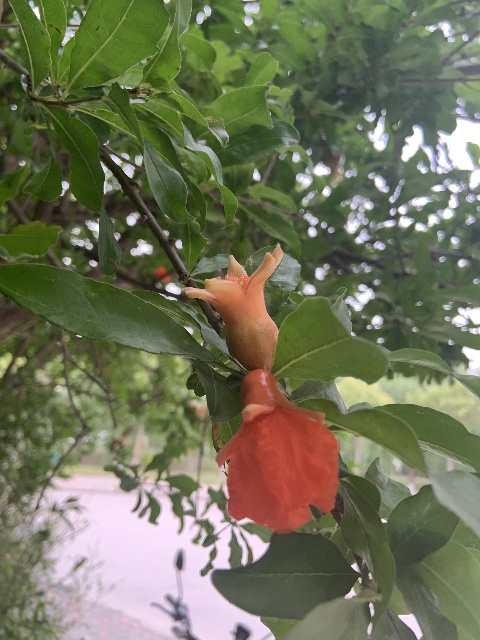early-fruit: (181, 243, 282, 371)
flower: (216, 369, 339, 534)
